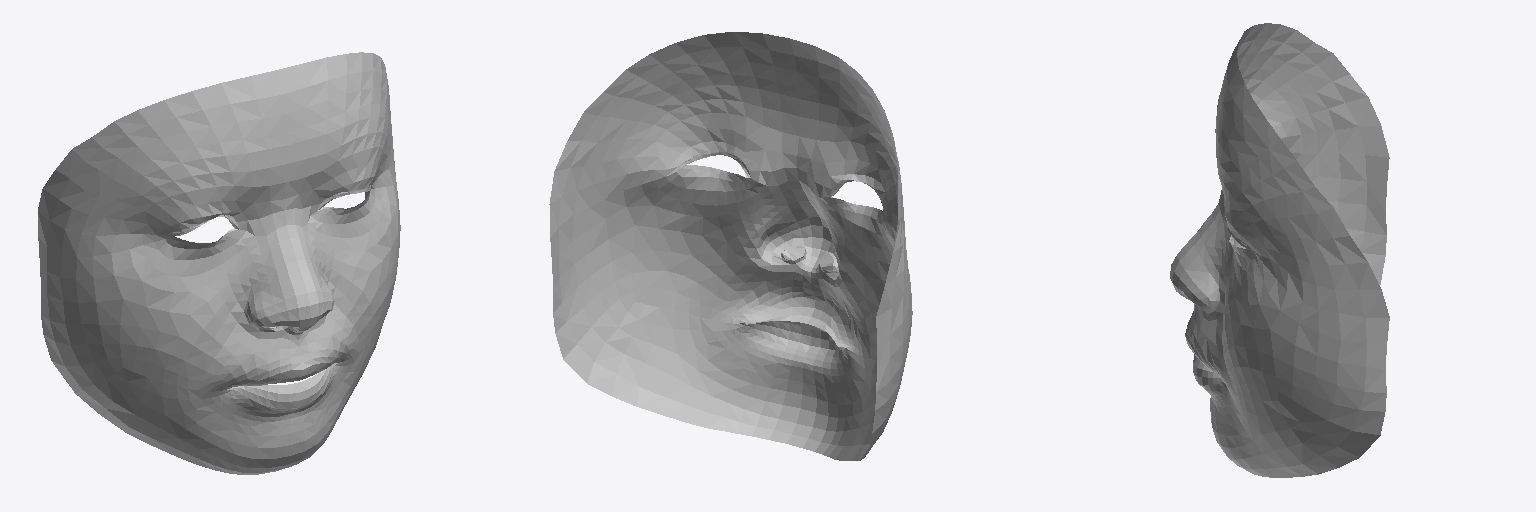
Rendered from eyeWide_R.obj.
The picture shows the model from 3 angles: view 1: azimuth 30°, elevation 25°; view 2: azimuth 150°, elevation 25°; view 3: azimuth 270°, elevation 25°; orthographic projection.
Parts seen in each view (by area): view 1: default; view 2: default; view 3: default.
Boxes of the visible parts, box(x1,y1,x2,y2) form: default: box(38, 52, 400, 474); default: box(549, 32, 912, 460); default: box(1170, 23, 1389, 477).
Size of the model in its own units: 0.1624 by 0.1851 by 0.0913.